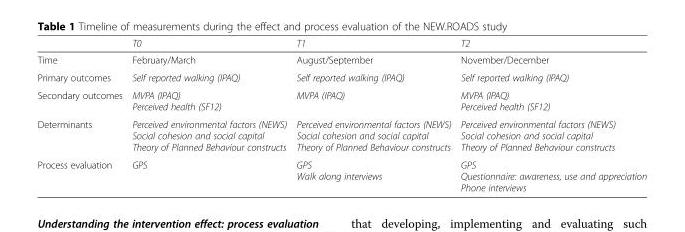table: (36, 37, 646, 192)
table column: (455, 37, 646, 192), (290, 37, 455, 192), (126, 37, 290, 192), (36, 37, 126, 192)
table column header: (36, 37, 646, 51)
table row: (36, 115, 646, 155), (36, 155, 646, 192), (36, 85, 646, 115), (36, 51, 646, 68), (36, 68, 646, 85), (36, 37, 646, 51)
